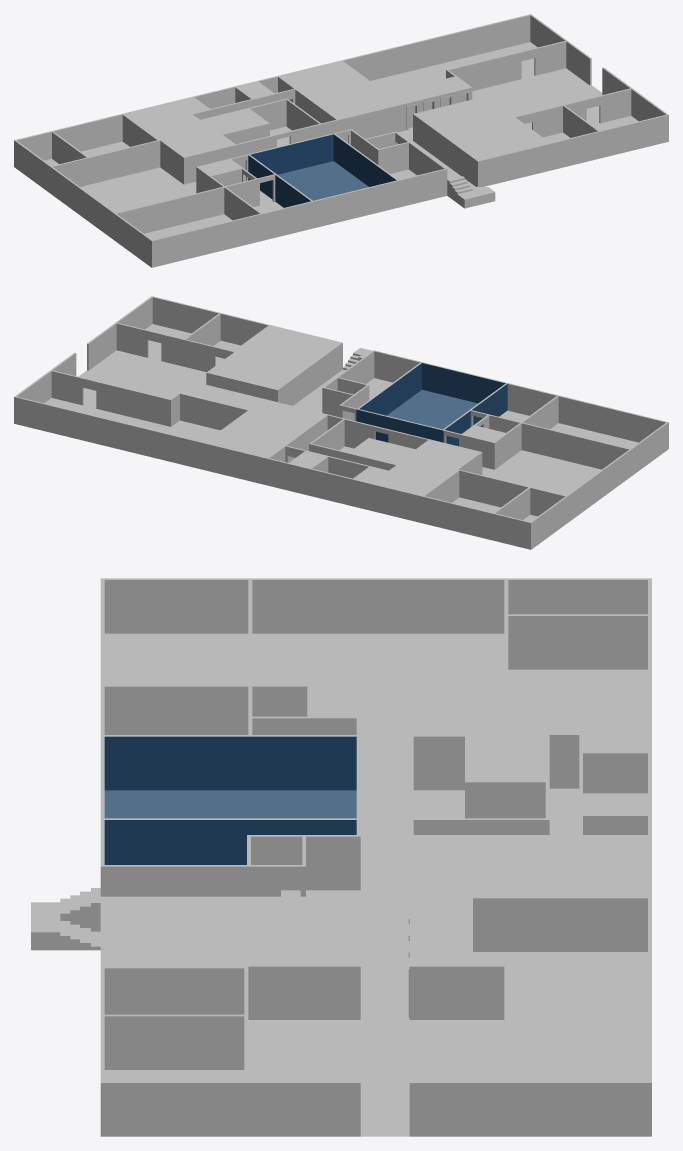
Rendered from av-theatre.gltf.
3 renders of one model, top to bottom at view 1: azimuth 30°, elevation 25°; view 2: azimuth 150°, elevation 25°; view 3: azimuth 270°, elevation 25°, orthographic. The views are drawn at different scales.
Parts seen in each view (by area): view 1: root; view 2: root; view 3: root.
Part boxes in pixels (<box>): root: <box>14,14,668,267</box>; root: <box>14,296,668,549</box>; root: <box>31,578,651,1136</box>.
Size of the model in its own units: 60.63 by 3 by 31.54.
